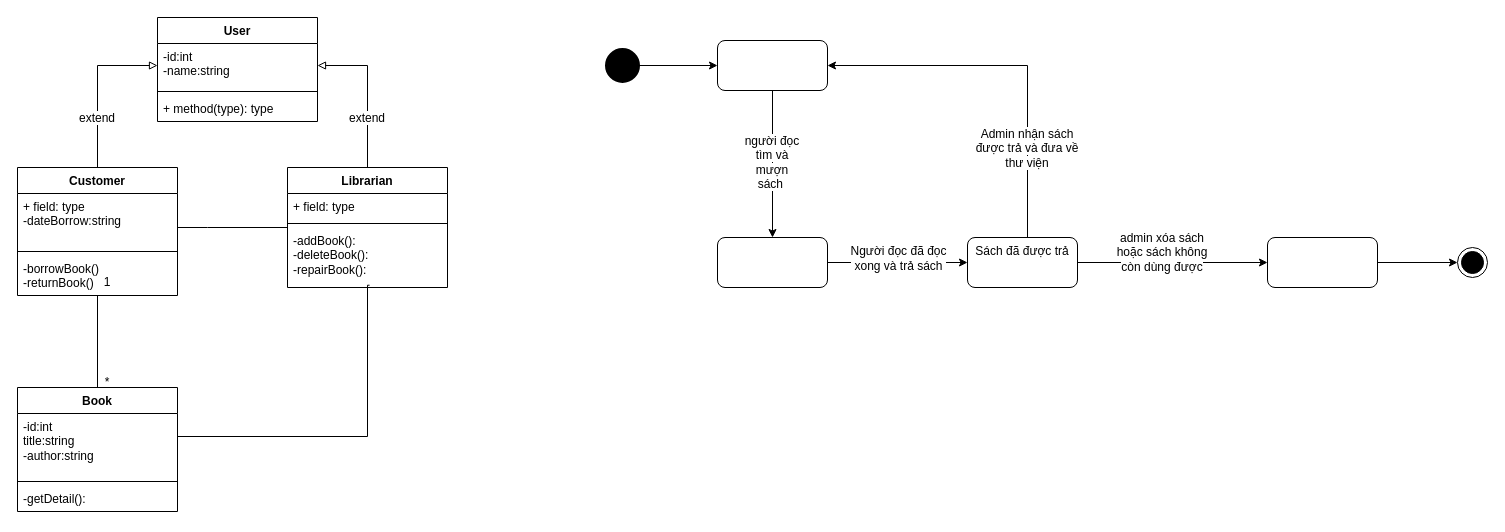
Some shapes in this 1505 by 532 pixel diagram are drawn without their labels. Here are the shapes that lost their labels. From the top down, the centre of each, then its label:
the point at 772,65: Sách chưa được mượn
the point at 772,262: Sách đang được mượn
the point at 1322,262: Sách đã được xóa
